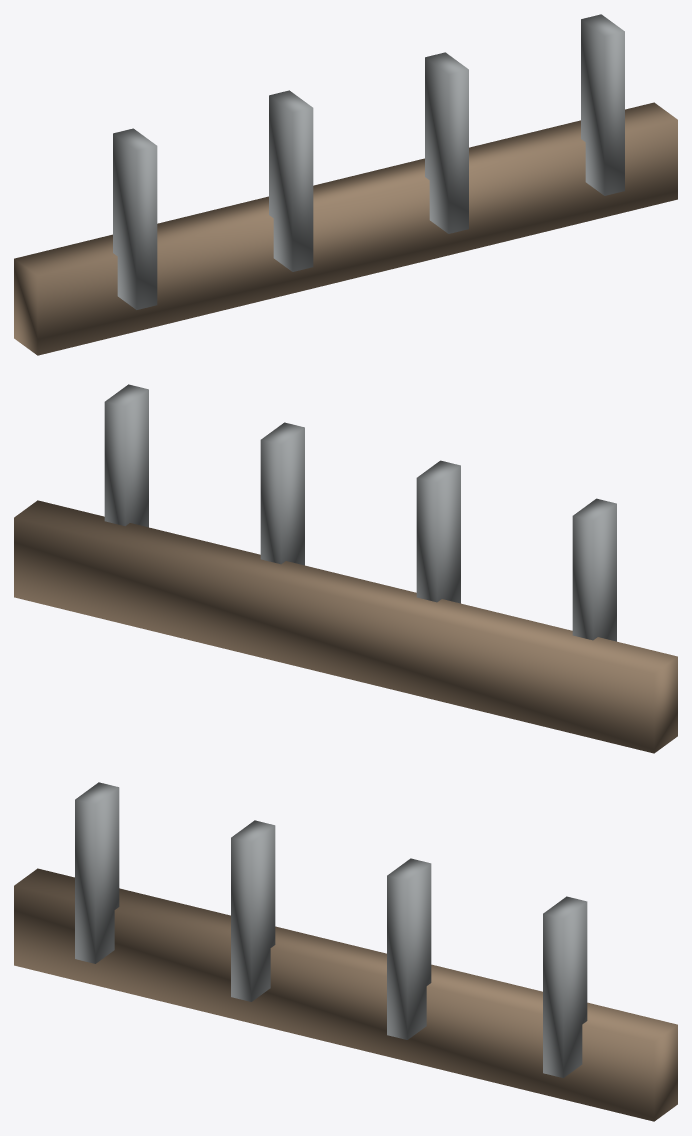
The model's file is door_coat_hook__tall.glb.
3 views of the same model, one above another, from view 1: azimuth 30°, elevation 25°; view 2: azimuth 150°, elevation 25°; view 3: azimuth 330°, elevation 25° (orthographic).
Parts seen in each view (by area): view 1: world; view 2: world; view 3: world.
Part boxes in pixels (x1,y1,x2,y2): world: [14, 14, 677, 355]; world: [14, 384, 677, 753]; world: [14, 782, 677, 1121].
Size of the model in its own units: 0.78 by 0.232 by 0.09.
